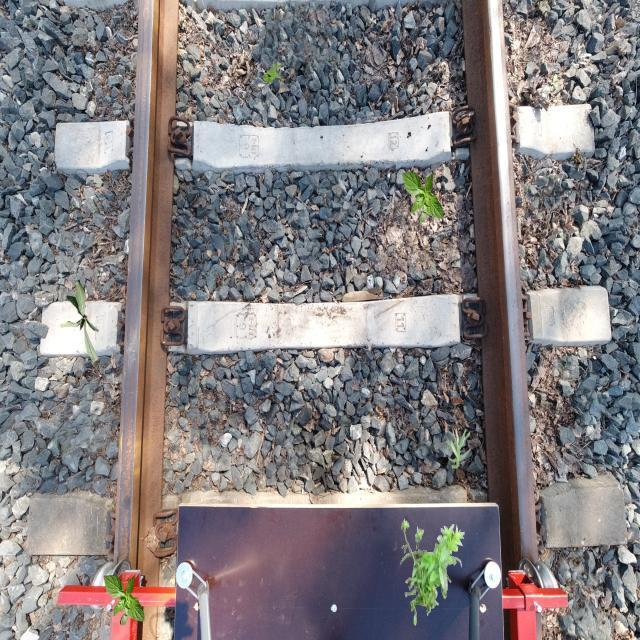Plant: (400, 518, 464, 626), (60, 280, 100, 362), (402, 170, 444, 224), (103, 573, 144, 626), (446, 427, 472, 469), (262, 61, 282, 86)
